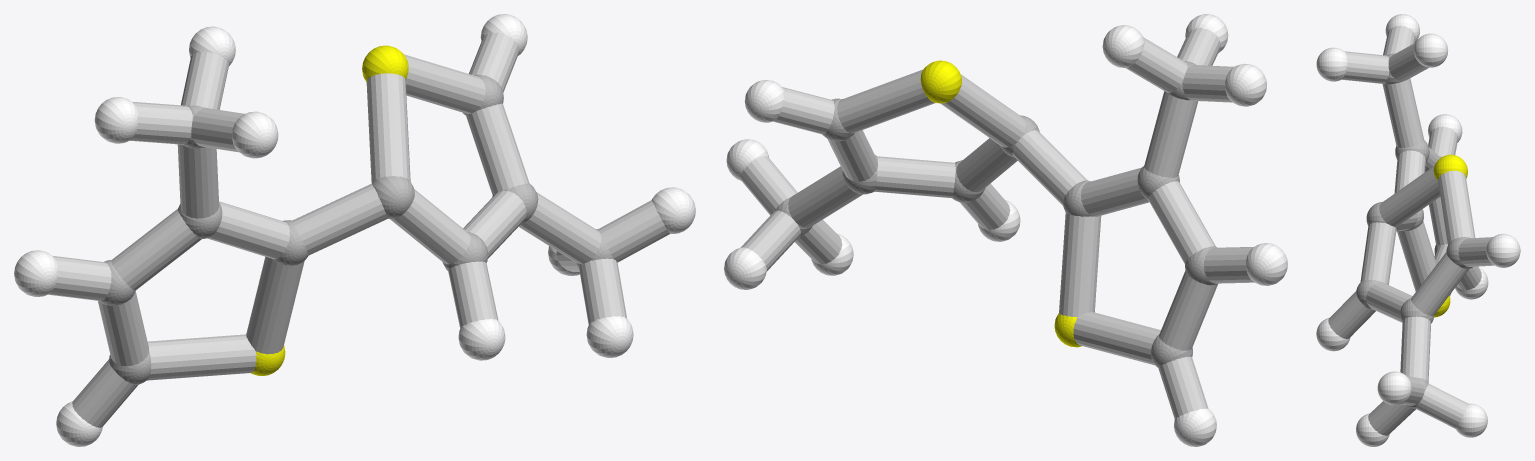
Rendered from Methylthiophene_Phi_50_Theta_320_Methylthiophene.glb.
The picture shows the model from 3 angles, left to right: view 1: azimuth 30°, elevation 25°; view 2: azimuth 150°, elevation 25°; view 3: azimuth 270°, elevation 25°; orthographic projection. The views are drawn at different scales.
Visible parts, largest first — view 1: grp7965, grp3621, grp1, grp7241; view 2: grp7965, grp3621, grp1, grp7241; view 3: grp7965, grp3621, grp1, grp7241.
Boxes of the visible parts, bbox=[...] form: grp7965: bbox=[48, 32, 669, 427]; grp3621: bbox=[14, 14, 695, 446]; grp1: bbox=[99, 74, 613, 384]; grp7241: bbox=[250, 45, 408, 375]; grp7965: bbox=[740, 28, 1254, 418]; grp3621: bbox=[724, 14, 1287, 446]; grp1: bbox=[775, 61, 1217, 367]; grp7241: bbox=[920, 60, 1081, 347]; grp7965: bbox=[1328, 25, 1494, 435]; grp3621: bbox=[1316, 14, 1520, 446]; grp1: bbox=[1356, 53, 1473, 408]; grp7241: bbox=[1433, 154, 1467, 317].
Bounding box in the file's own units: 9.45 × 5.78 × 3.56.
